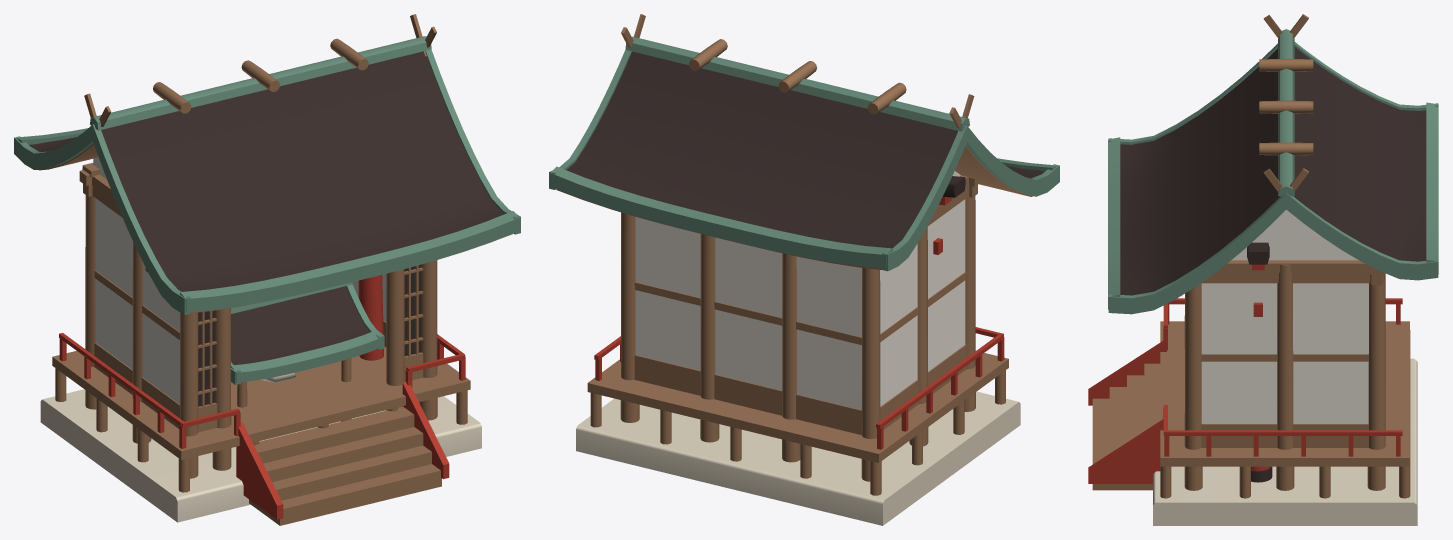
Rendered from BlossomSanctuary_Shrine.fbx.
3 views of the same model, side by side, from view 1: azimuth 30°, elevation 25°; view 2: azimuth 150°, elevation 25°; view 3: azimuth 270°, elevation 25° (orthographic). The views are drawn at different scales.
Parts seen in each view (by area): view 1: BS_ShrineHall__RoofDark, BS_ShrineHall__Timber, BS_ShrineHall__Copper, BS_ShrineHall__Stone, BS_ShrineHall__Plaster, BS_Chozuya__RoofDark, BS_ShrineHall__Lacquer, BS_Chozuya__Copper, BS_Torii__Lacquer; view 2: BS_ShrineHall__RoofDark, BS_ShrineHall__Timber, BS_ShrineHall__Plaster, BS_ShrineHall__Stone, BS_ShrineHall__Copper, BS_ShrineHall__Lacquer; view 3: BS_ShrineHall__RoofDark, BS_ShrineHall__Timber, BS_ShrineHall__Plaster, BS_ShrineHall__Copper, BS_ShrineHall__Stone, BS_ShrineHall__Lacquer, BS_Torii__RoofDark.
Boxes of the visible parts, x1,y1,x2,y2 form: BS_ShrineHall__RoofDark: (29, 51, 503, 406); BS_ShrineHall__Timber: (38, 14, 512, 525); BS_ShrineHall__Copper: (14, 36, 520, 315); BS_ShrineHall__Stone: (40, 389, 481, 522); BS_ShrineHall__Plaster: (93, 157, 386, 403); BS_Chozuya__RoofDark: (231, 286, 369, 364); BS_ShrineHall__Lacquer: (59, 333, 465, 519); BS_Chozuya__Copper: (231, 282, 384, 384); BS_Torii__Lacquer: (145, 268, 383, 360); BS_ShrineHall__RoofDark: (566, 51, 1044, 248); BS_ShrineHall__Timber: (556, 14, 1032, 495); BS_ShrineHall__Plaster: (635, 171, 965, 409); BS_ShrineHall__Stone: (576, 391, 1020, 525); BS_ShrineHall__Copper: (549, 36, 1059, 271); BS_ShrineHall__Lacquer: (594, 327, 1004, 449); BS_ShrineHall__RoofDark: (1120, 47, 1426, 295); BS_ShrineHall__Timber: (1092, 14, 1410, 498); BS_ShrineHall__Plaster: (1182, 209, 1368, 423); BS_ShrineHall__Copper: (1108, 29, 1438, 314); BS_ShrineHall__Stone: (1153, 358, 1417, 525); BS_ShrineHall__Lacquer: (1088, 298, 1402, 483); BS_Torii__RoofDark: (1247, 242, 1272, 482).
Size of the model in its own units: 17.44 by 18.77 by 16.28.
